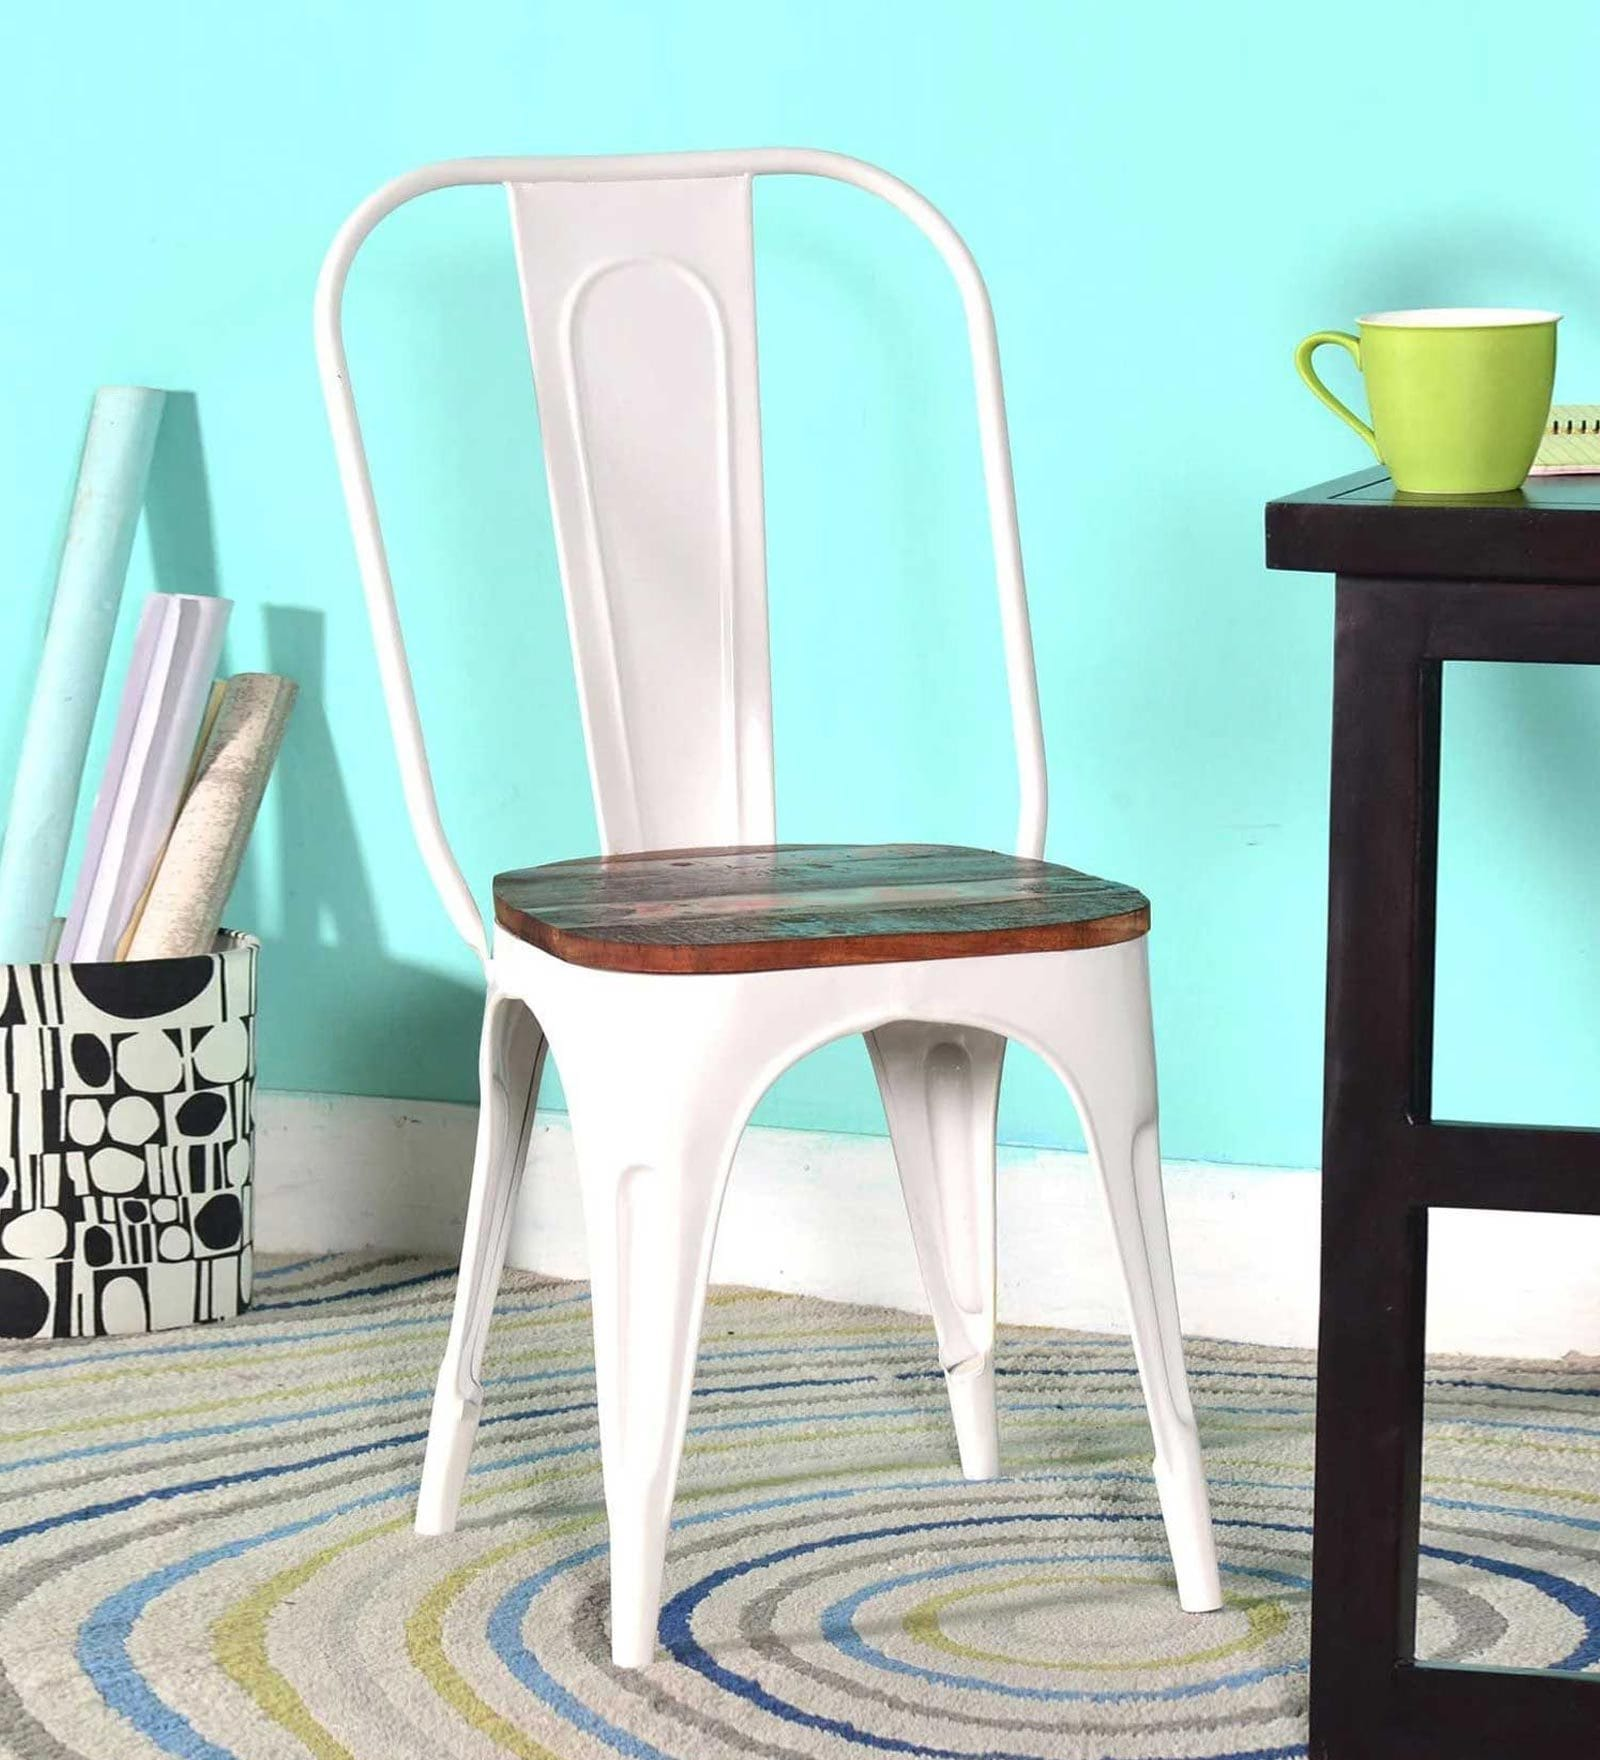Kumtor Metal Chair in Distress White Color with Wooden Seat by Bohemiana: (274, 115, 1270, 1677)
